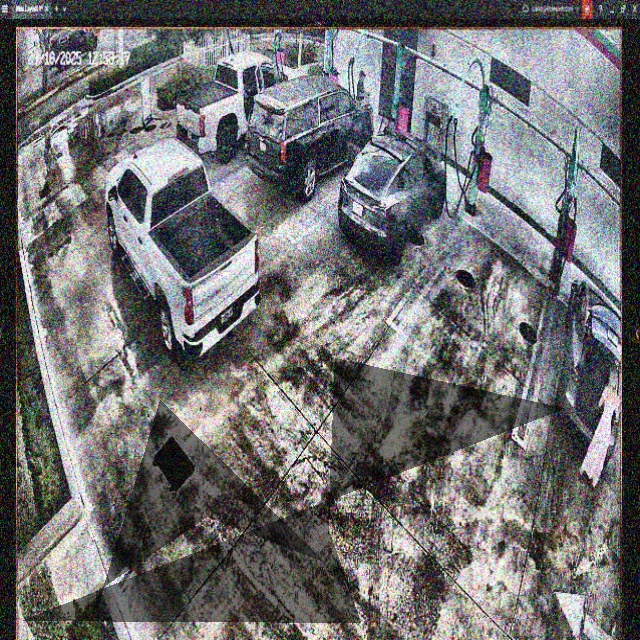Car: (105, 137, 261, 358), (246, 73, 374, 196), (338, 130, 445, 259), (176, 52, 300, 162)
